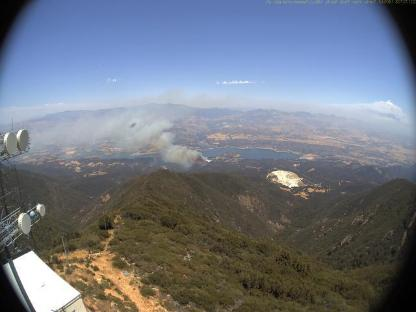smoke: (48, 99, 216, 173)
